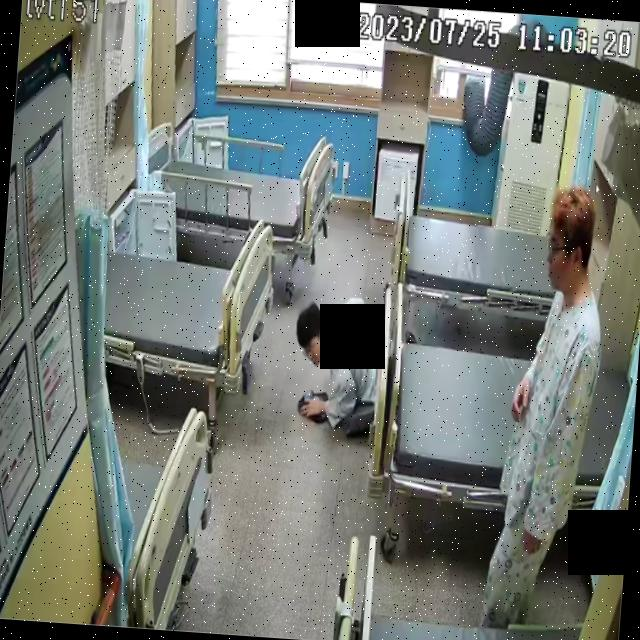bed: (364, 278, 632, 520), (388, 159, 584, 328), (102, 212, 277, 390), (157, 131, 333, 257)
fall: (287, 294, 398, 431)
patient: (477, 185, 611, 636), (288, 293, 402, 433)
